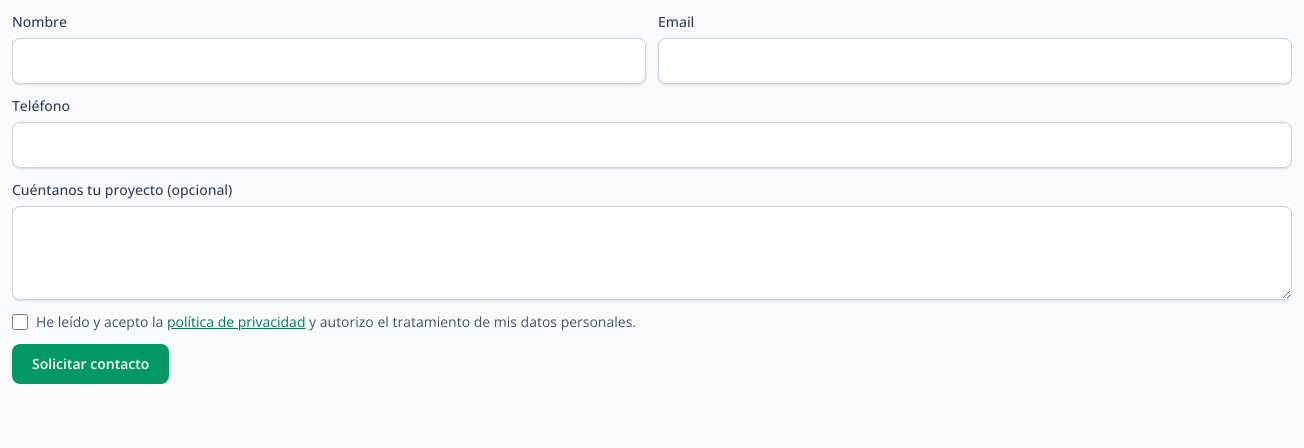
Scenario: ServicioInteresForm › no envía el formulario si el email es inválido
Type "Ana Restrepo" into the field labelled "Nombre".
click(329, 61); type("Ana Restrepo")  # box [12, 38, 646, 84]
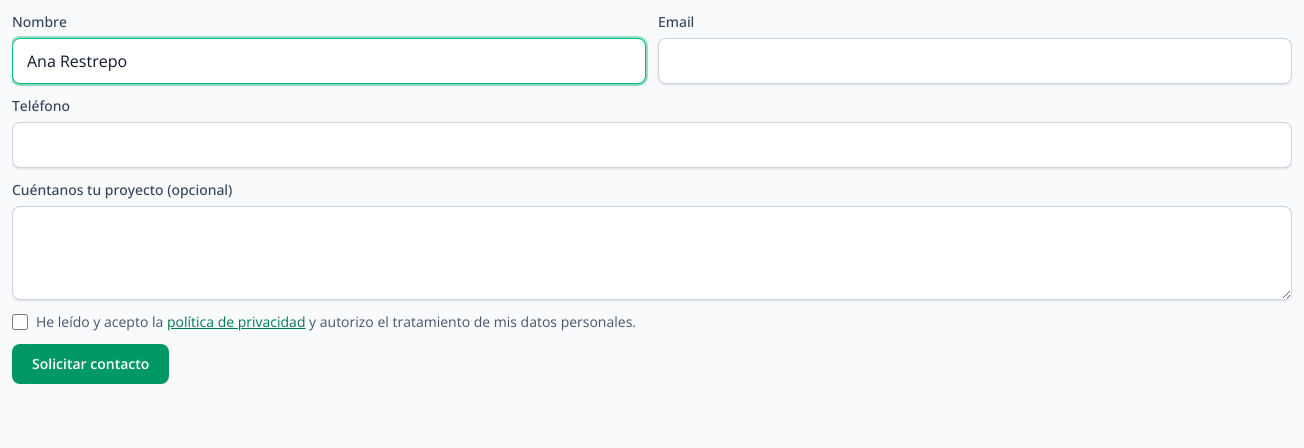
Type "no-es-un-email" into the field labelled "Email".
click(975, 61); type("no-es-un-email")  # box [658, 38, 1292, 84]
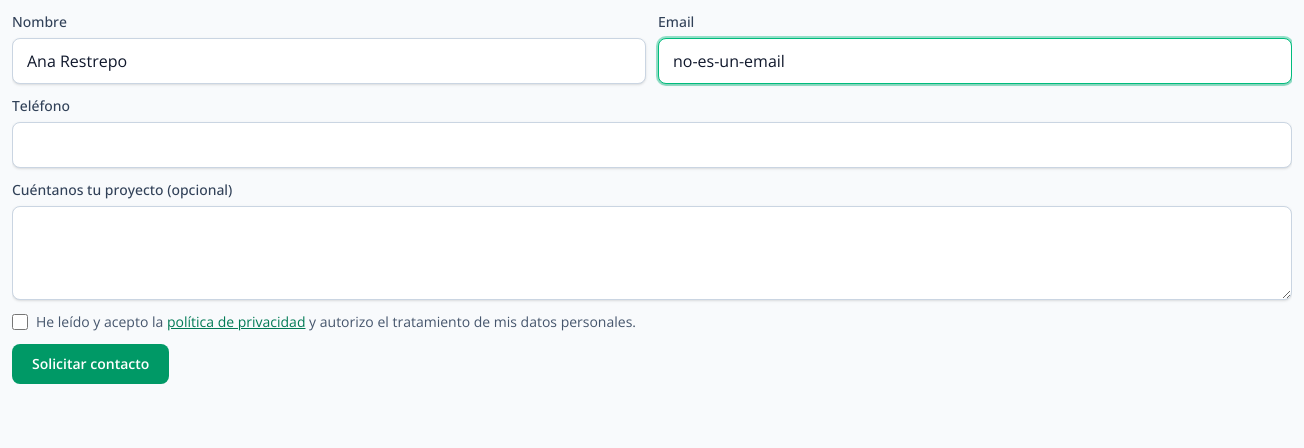
Type "3109876543" into the field labelled "Teléfono".
click(652, 145); type("3109876543")  # box [12, 122, 1292, 168]
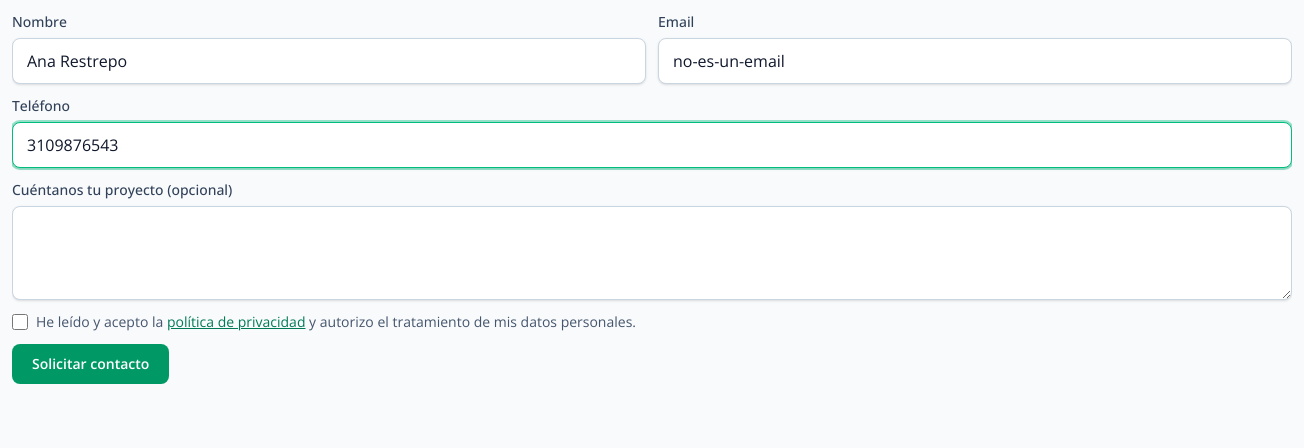
Click the button "Solicitar contacto".
click(91, 364)  # box [12, 344, 169, 384]
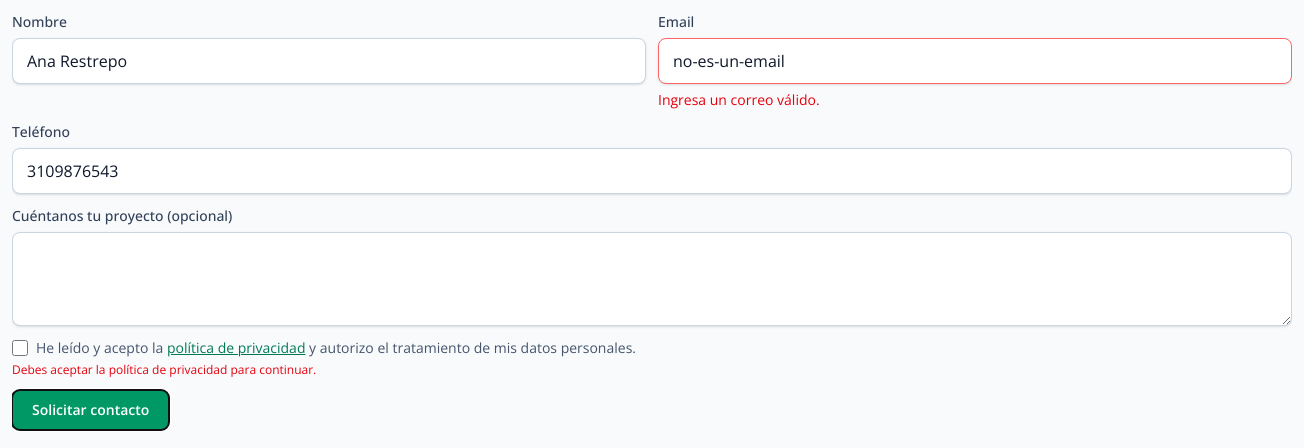
Now the text "Ingresa un correo válido." is shown, box [658, 90, 820, 109]
